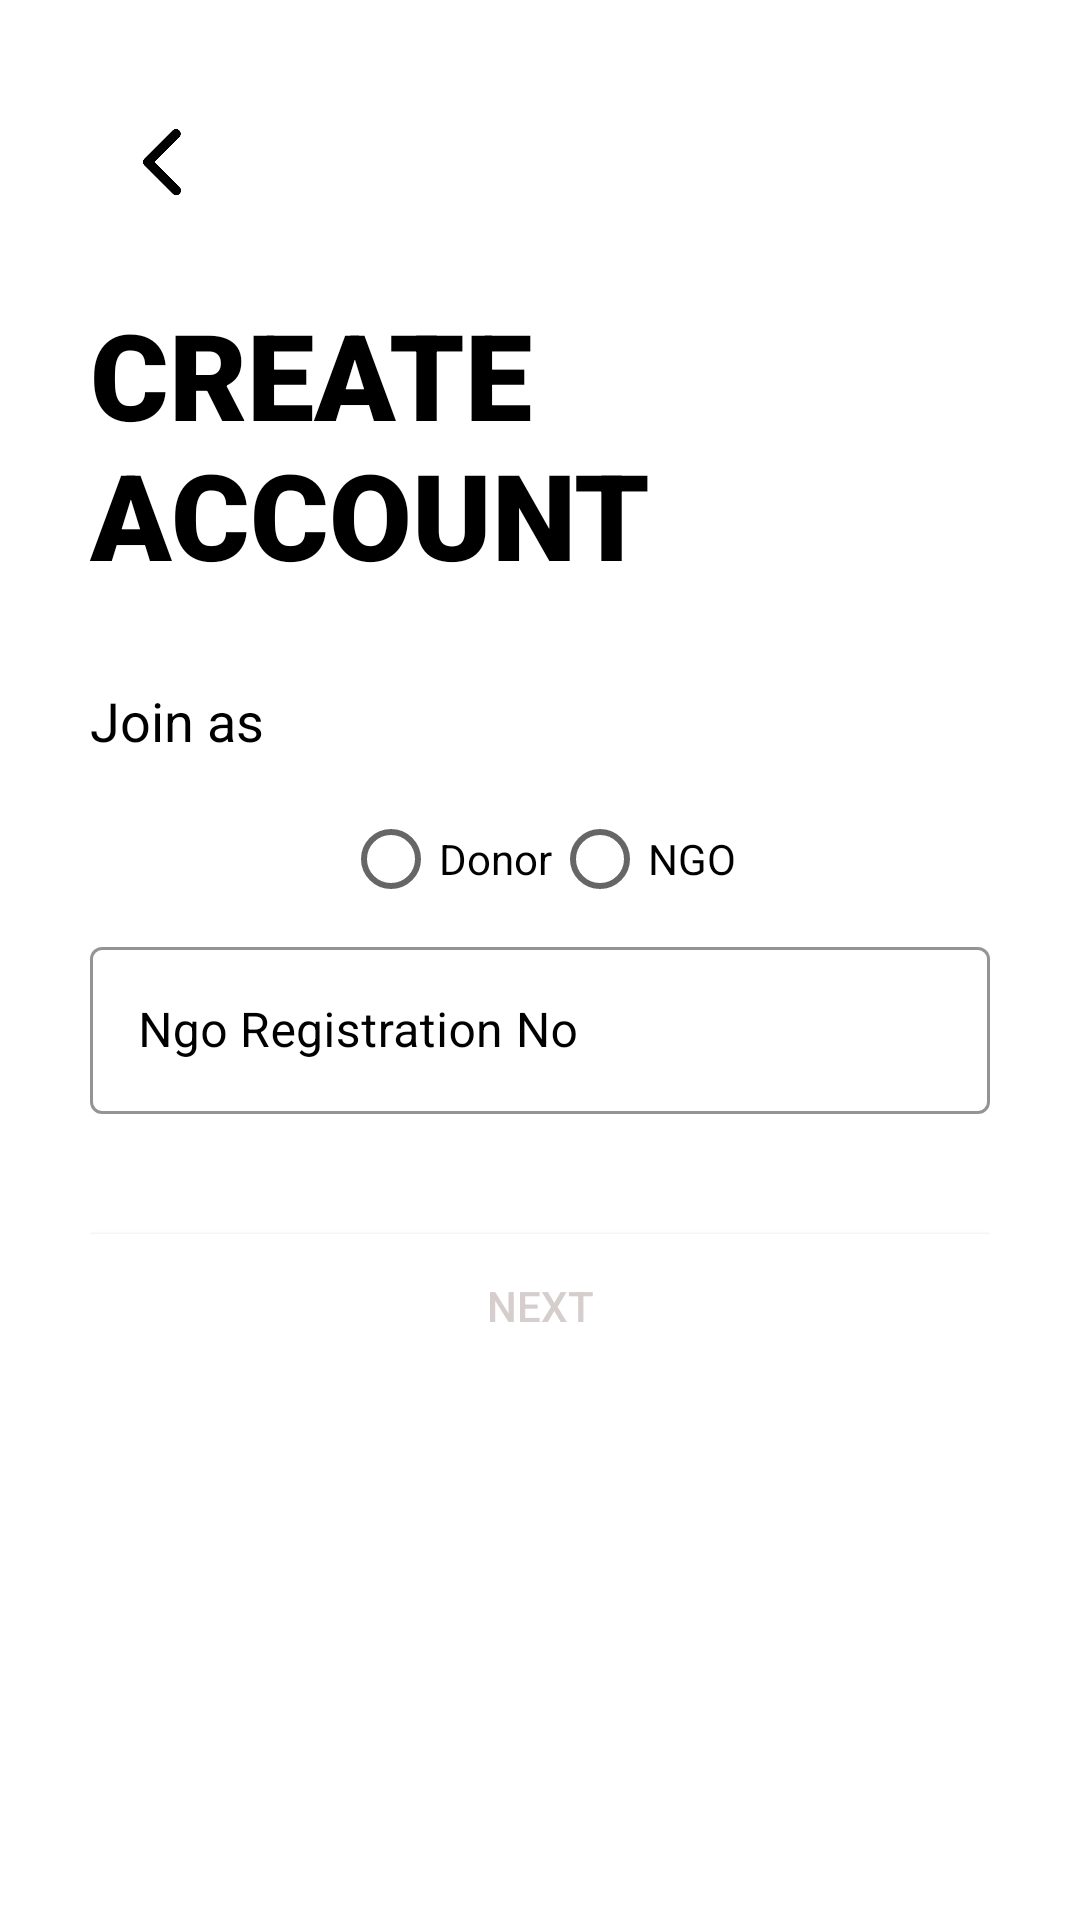

Screen size 1080x1920. Icon name, then its box in pixels as (x1, y1, x2, y2):
back: (143, 129, 181, 195)
